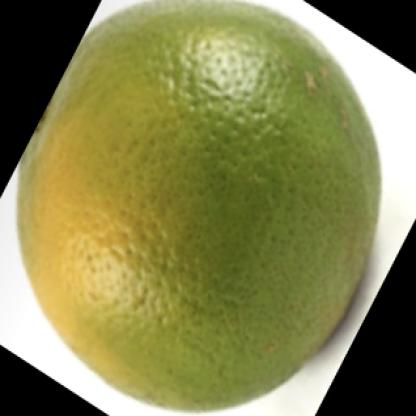fresh: (18, 2, 382, 416)
